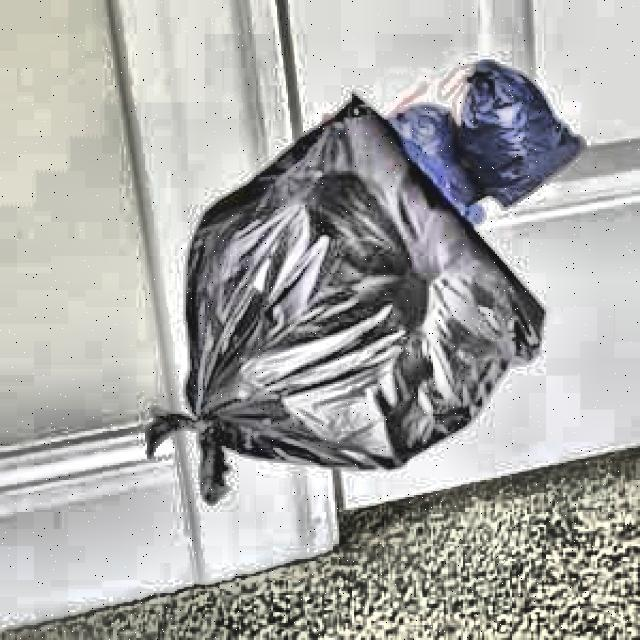Trashbag: (143, 139, 502, 492), (456, 57, 583, 181)
